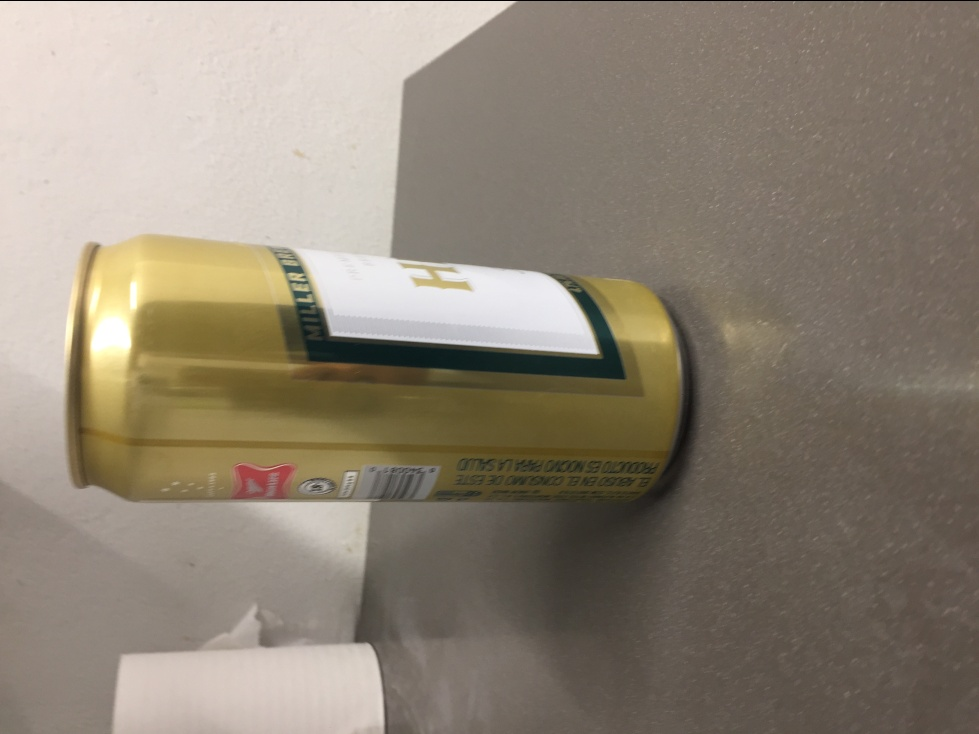miller: (57, 231, 692, 509)
